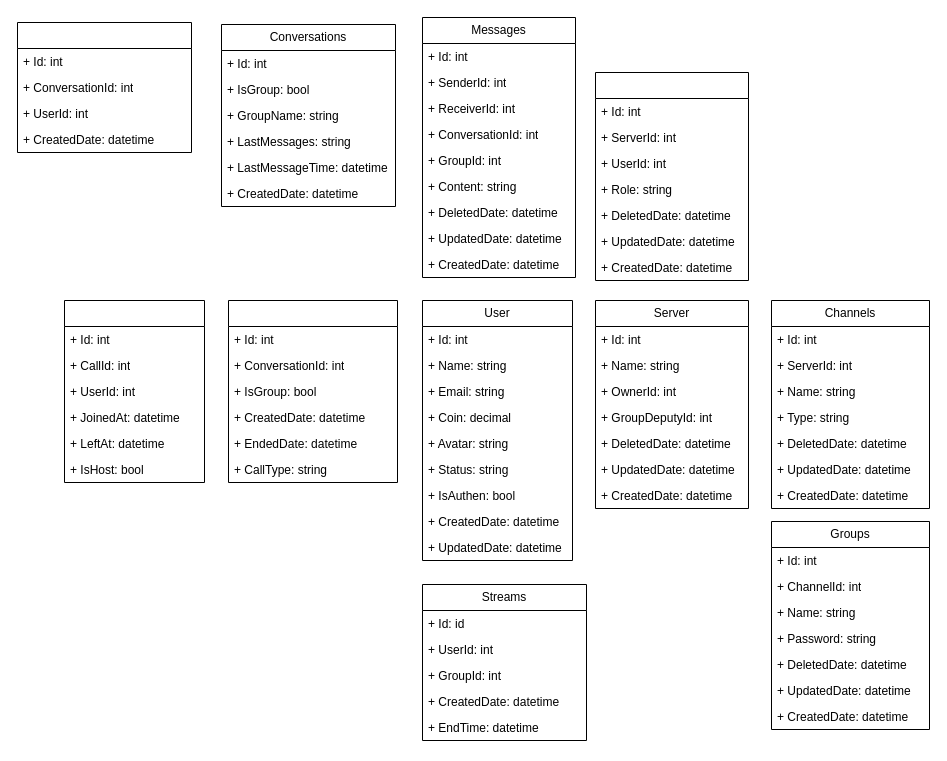
Some shapes in this 947 by 761 pixel diagram are drawn without their labels. The shapes that lost their labels are listed below. From the top down, each one's box as (x1, y1, x2, y2) in pixels, then its label:
(16, 22, 192, 152): ConversationMembers
(594, 72, 748, 280): ServersMembers
(64, 300, 204, 482): CallParticipants
(228, 300, 398, 482): Calls
